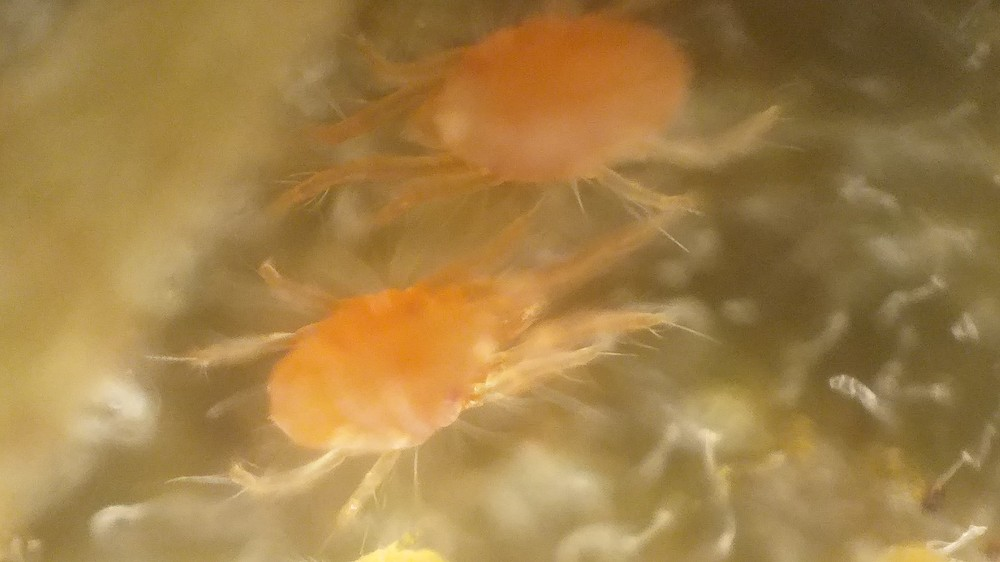Aracnido Rojo: (197, 240, 743, 523), (275, 9, 801, 234)
